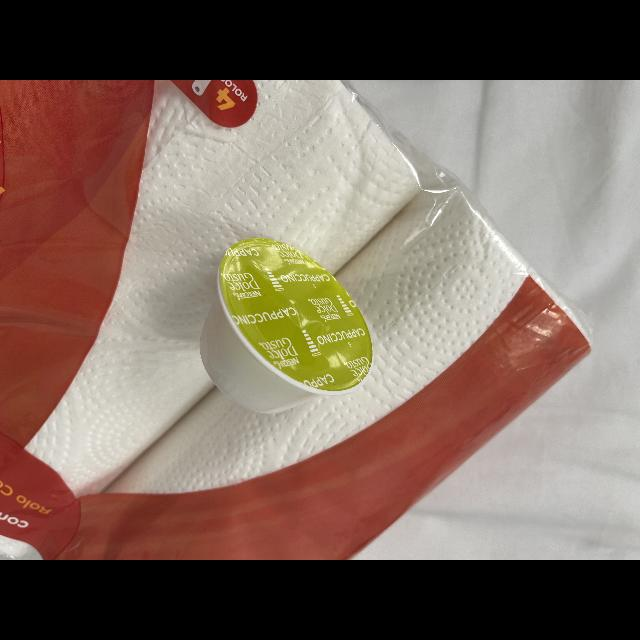intact_capsule: (190, 228, 378, 434)
